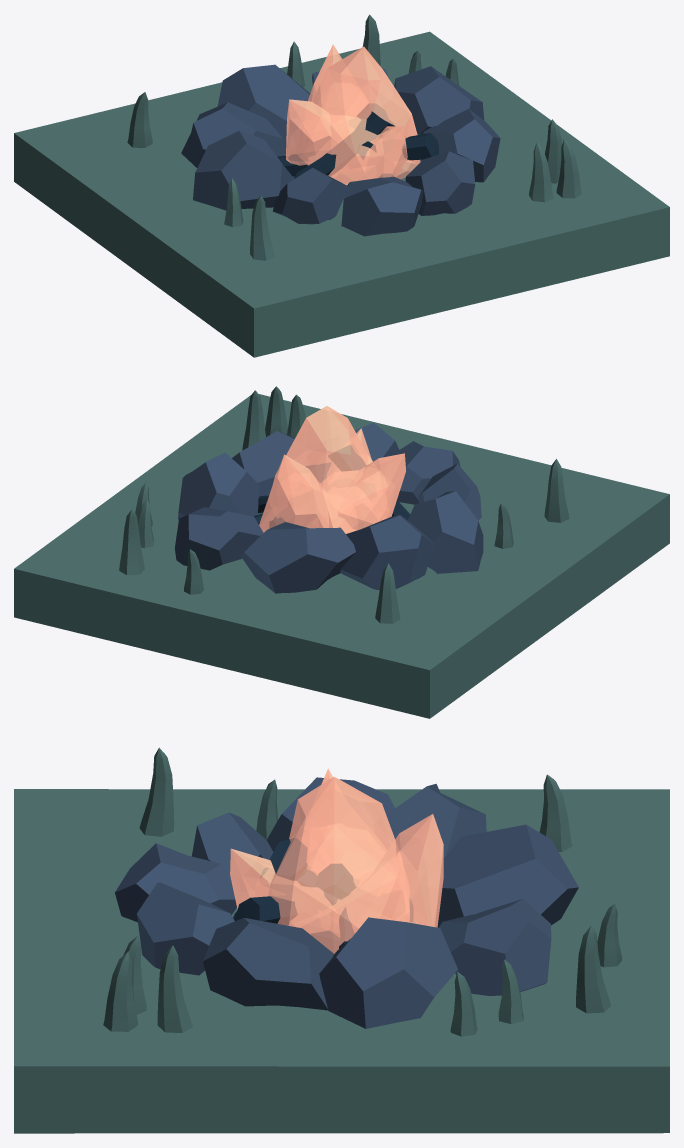
Rendered from Asset_Feudecamp.fbx.
The picture shows the model from 3 angles, top to bottom: view 1: azimuth 30°, elevation 25°; view 2: azimuth 150°, elevation 25°; view 3: azimuth 270°, elevation 25°; orthographic projection. The views are drawn at different scales.
Parts seen in each view (by area): view 1: polySurface31; view 2: polySurface31; view 3: polySurface31.
Boxes of the visible parts, x1,y1,x2,y2 form: polySurface31: (14,14,669,357); polySurface31: (14,386,669,718); polySurface31: (14,747,669,1133).
Bounding box in the file's own units: 1 × 0.387 × 1.
